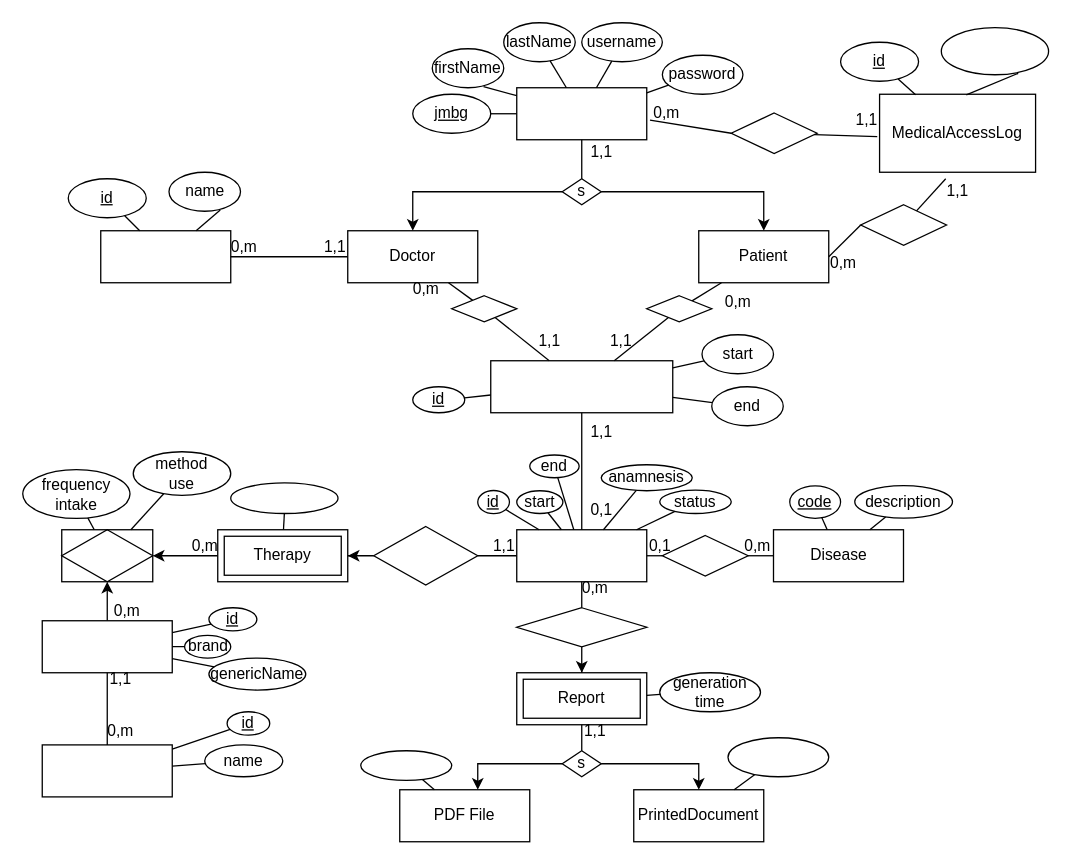
The diagram is 1073 pixels wide and 864 high, and some of its shapes have lost their labels. Here are the shapes that lost their labels. From the top down, the centre of each, then its label:
At point 994,50: "accessedAt".
At point 581,113: "User".
At point 773,133: "accessor".
At point 903,224: "of".
At point 165,256: "Specialization Department".
At point 483,308: "from".
At point 678,308: "for".
At point 581,386: "ScheduledAppointment".
At point 283,498: "instructions".
At point 106,555: "Medicine Usage".
At point 425,555: "prescribes".
At point 581,555: "Examination".
At point 704,555: "diagnosis".
At point 106,646: "Medicine".
At point 581,626: "generates".
At point 106,770: "Medicine Form".
At point 405,764: "version".
At point 778,756: "paper size".
